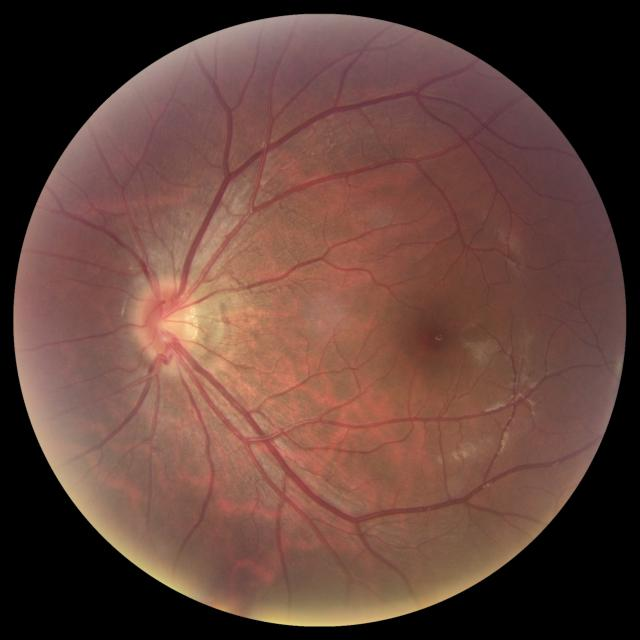OC: (151, 309, 178, 338)
OD: (135, 276, 199, 364)
